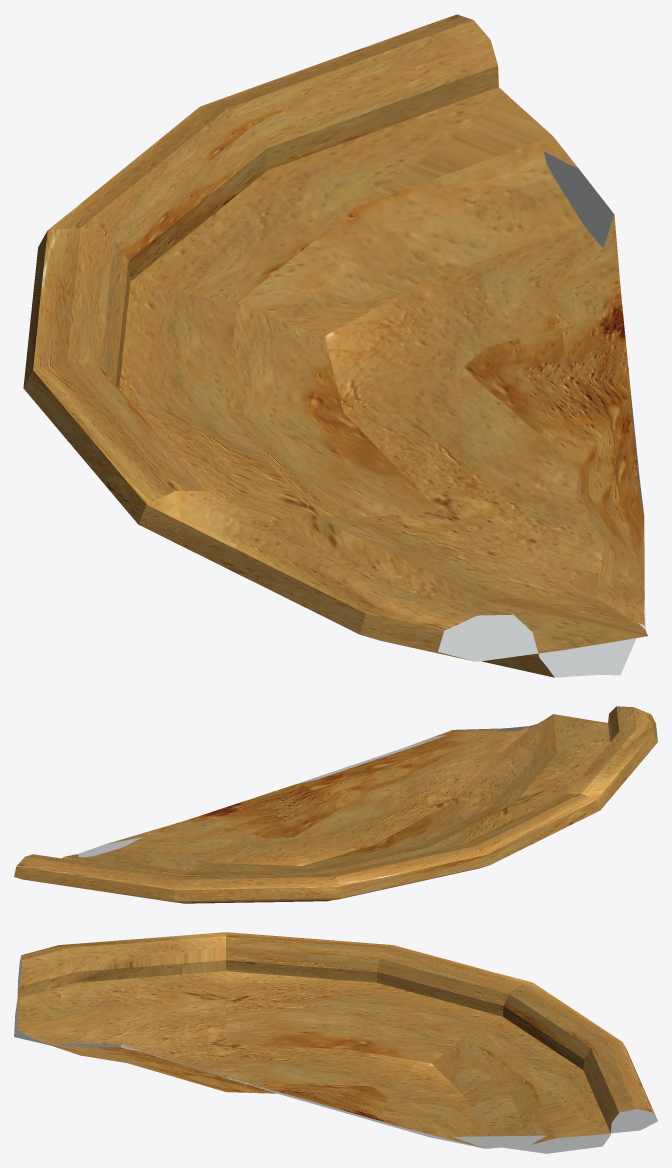
Rendered from sugartri3.gltf.
3 views of the same model, one above another, from view 1: azimuth 30°, elevation 25°; view 2: azimuth 150°, elevation 25°; view 3: azimuth 270°, elevation 25° (orthographic). The views are drawn at different scales.
Parts seen in each view (by area): view 1: 평면; view 2: 평면; view 3: 평면.
Boxes of the visible parts, <box> form: 평면: <box>23,14,647,677</box>; 평면: <box>14,706,657,903</box>; 평면: <box>14,932,657,1153</box>.
Size of the model in its own units: 0.8267 by 0.1008 by 1.23.
Materials: 1 (1 with a texture image).
